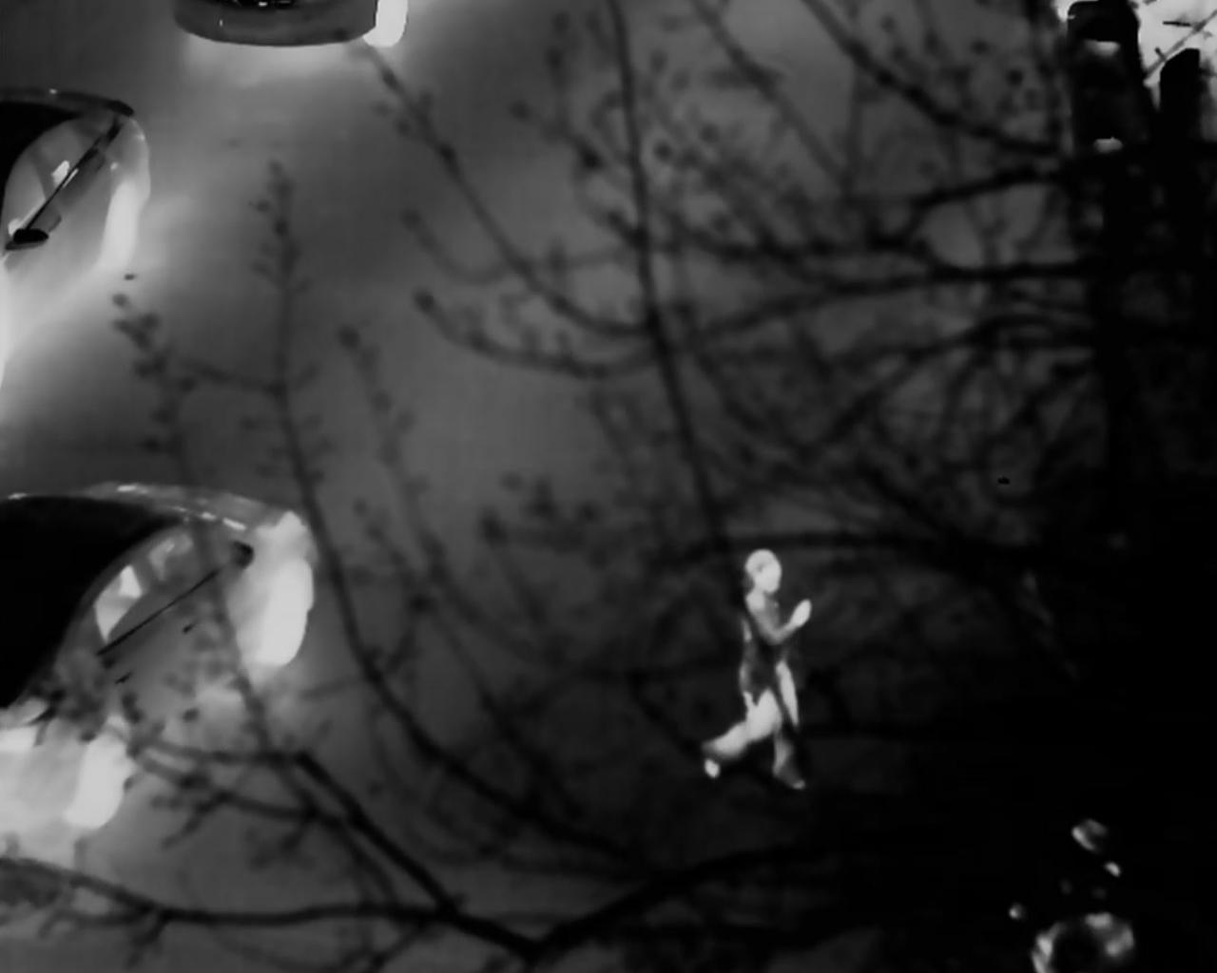person: (699, 558, 836, 779)
